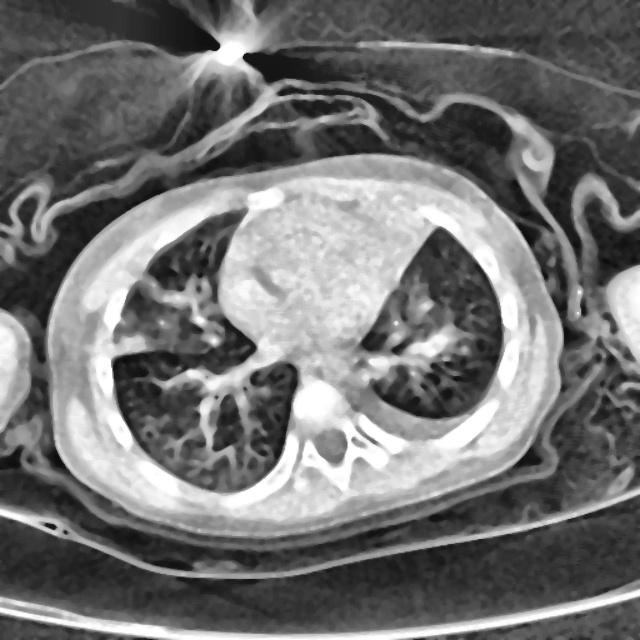covid: (43, 151, 565, 547)
